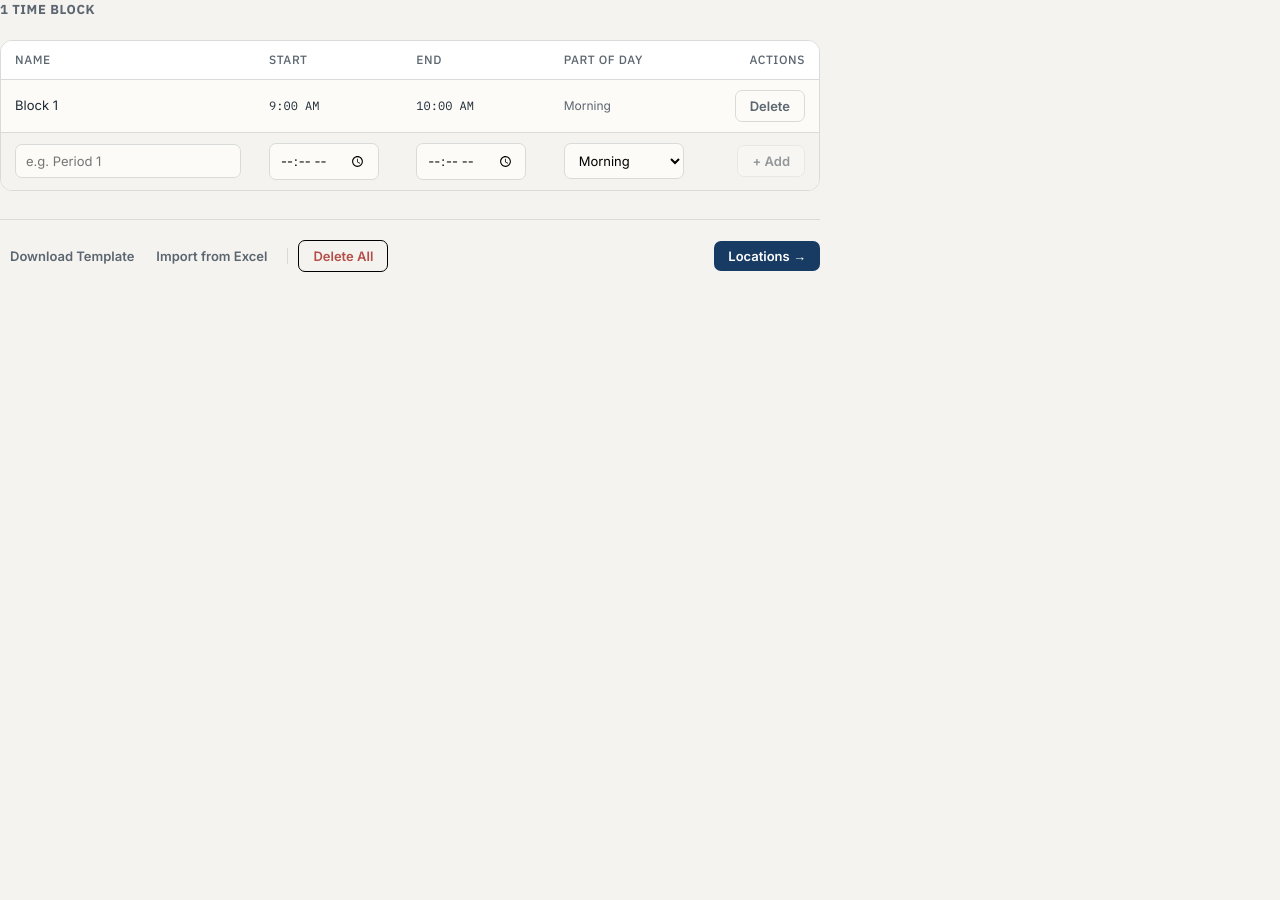
it: TimeBlocksScreen delete confirmation › cancels without deleting
The image size is (1280, 900).
Check: the button "Block 1" is shown, box [15,97,58,113]
Step 1. Click the button "Delete" → x=770, y=106, box [735,90,805,122]
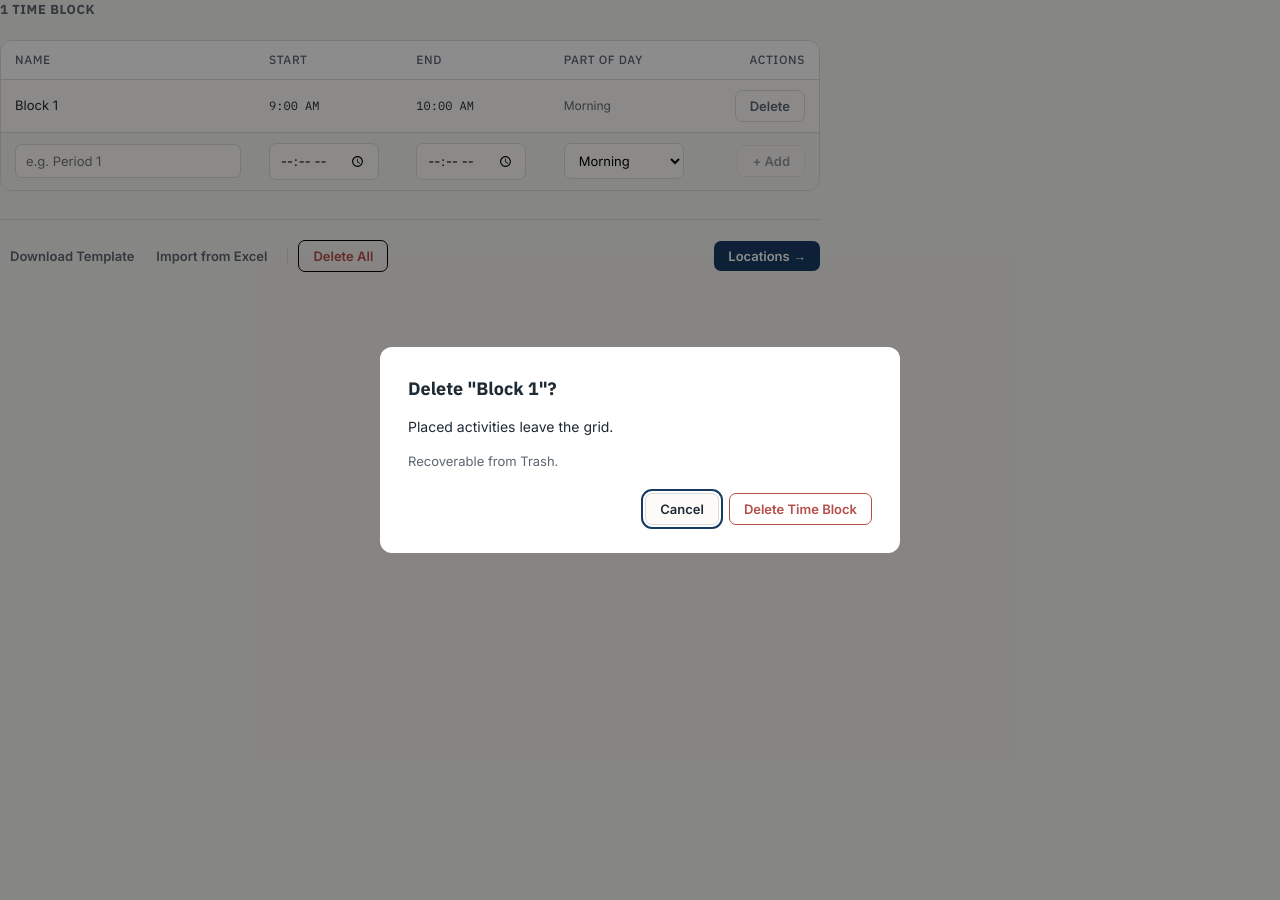
Check: the text "Delete \"Block 1\"?" is shown, box [408,377,556,400]
Step 2. Click the button "Cancel" → x=682, y=509, box [645,493,719,525]
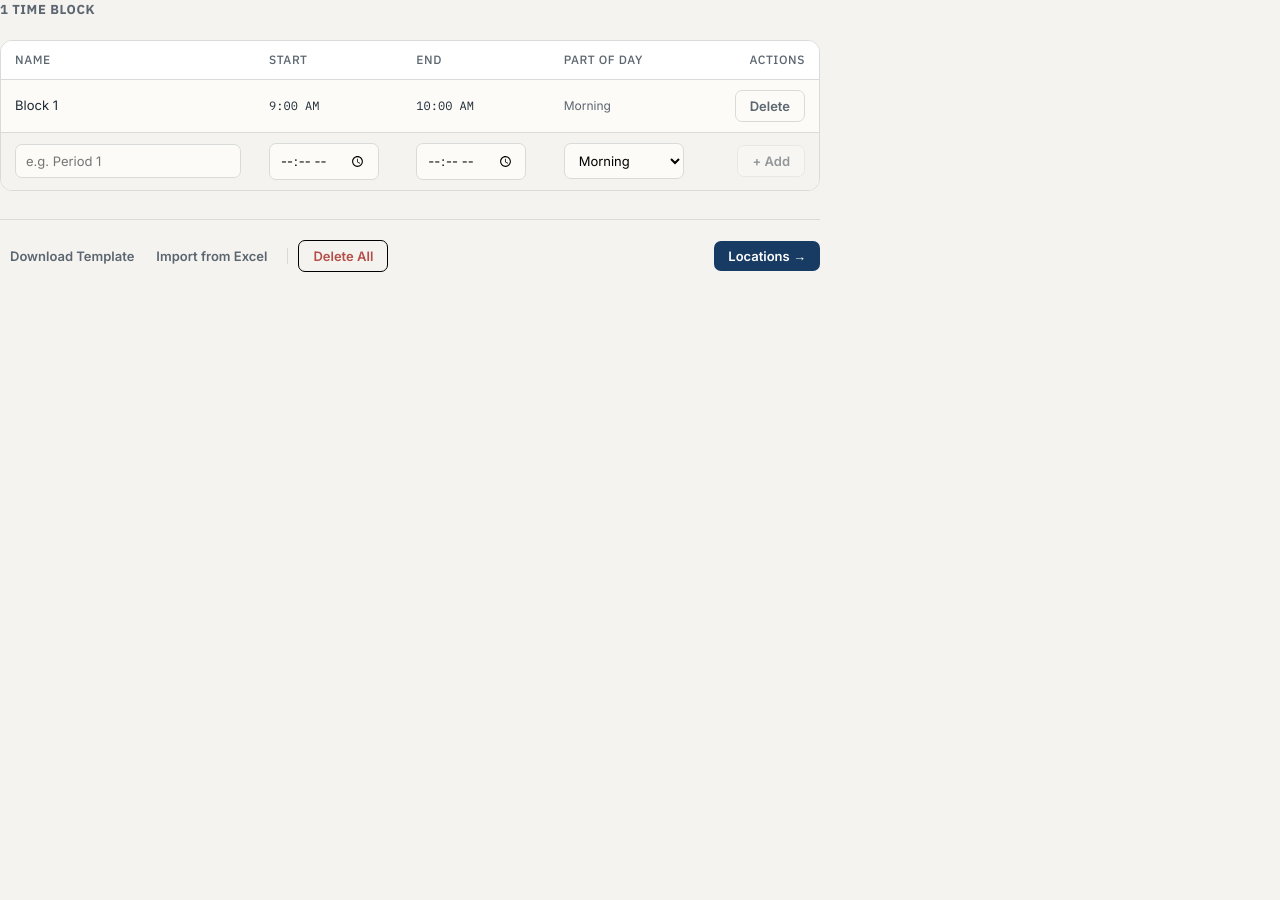
Check: the text "Delete \"Block 1\"?" is gone
